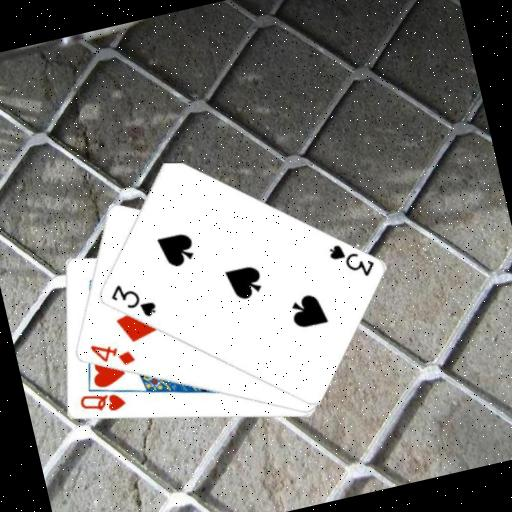3S: (104, 274, 160, 327), (323, 234, 378, 286)
4D: (86, 333, 138, 375)
QH: (74, 384, 129, 421)
